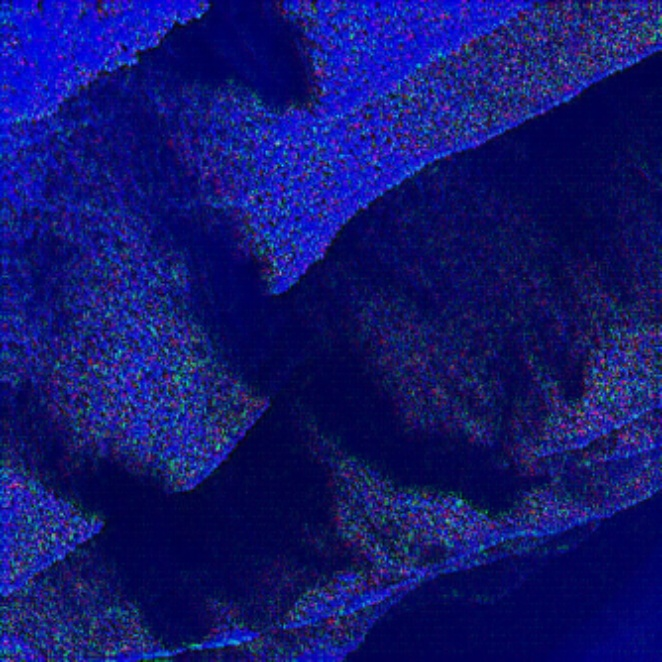rip_current: (119, 161, 497, 532)
